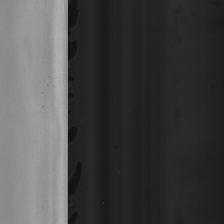inclusion: (46, 73, 51, 87), (40, 88, 45, 97), (40, 102, 44, 110)
